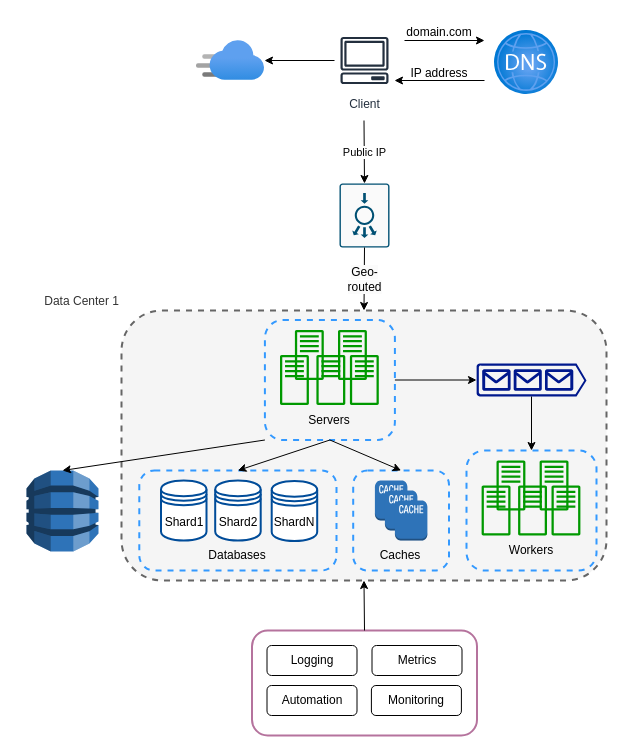
Some shapes in this 625 by 753 pixel diagram are drawn without their labels. The shapes that lost their labels are listed below. From the top down, each one's centre as x and y in pixels, then its label:
At (230,60): "CDN".
At (526,62): "DNS".
At (364,215): "Load Balancer".
At (531,379): "Messasge queue".
At (62,511): "NoSQL (Shared storage)".
